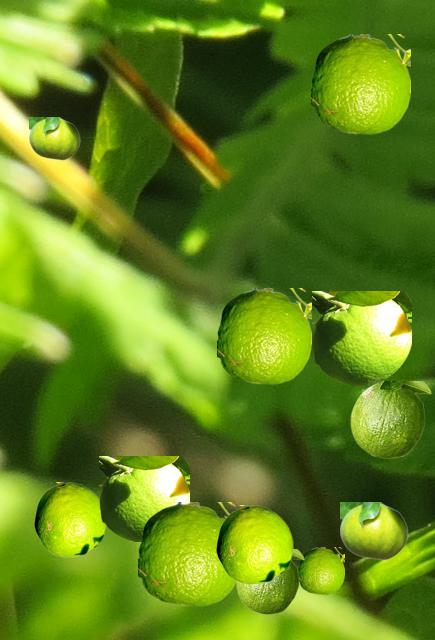dalandan: (138, 502, 236, 605), (311, 34, 409, 133), (312, 291, 410, 384), (217, 288, 310, 383), (99, 456, 188, 540), (350, 381, 430, 457), (216, 505, 292, 583), (34, 482, 105, 556), (236, 549, 303, 613), (340, 502, 407, 559), (29, 117, 79, 159), (298, 547, 343, 593)
